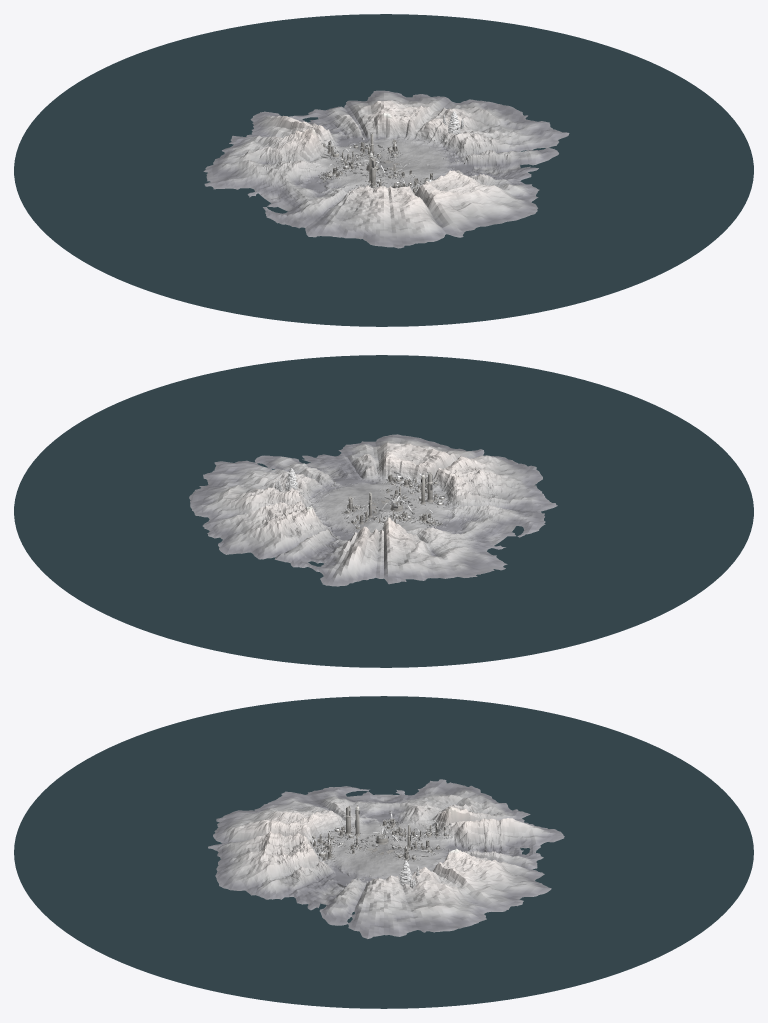
The model's file is zanarkand2.glb.
The picture shows the model from 3 angles, top to bottom: view 1: azimuth 30°, elevation 25°; view 2: azimuth 150°, elevation 25°; view 3: azimuth 270°, elevation 25°; orthographic projection.
Parts seen in each view (by area): view 1: Sea, Rock, Stone, Dark; view 2: Sea, Rock, Stone, Dark; view 3: Sea, Rock, Stone, Dark.
Part boxes in pixels (box(x1,y1,x2,y2)): Sea: box(14, 14, 753, 326); Rock: box(203, 90, 569, 248); Stone: box(318, 127, 468, 193); Dark: box(319, 110, 463, 190); Sea: box(14, 355, 753, 667); Rock: box(189, 434, 557, 586); Stone: box(299, 466, 449, 532); Dark: box(275, 456, 447, 531); Sea: box(14, 696, 753, 1008); Rock: box(208, 779, 564, 938); Stone: box(309, 804, 451, 883); Dark: box(311, 808, 451, 888).
Bounding box in the file's own units: 5200 × 313 × 5200.
